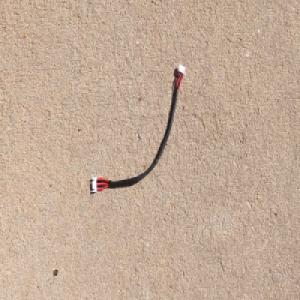Wire: (90, 60, 189, 196)
